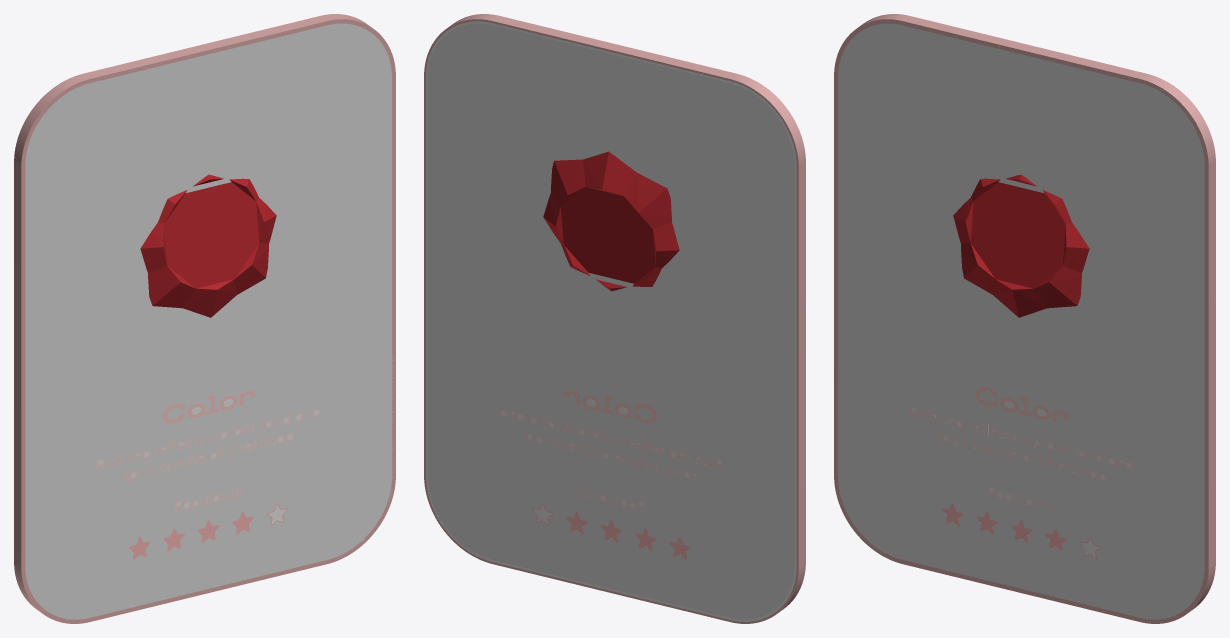
Rendered from color.gltf.
3 views of the same model, side by side, from view 1: azimuth 30°, elevation 25°; view 2: azimuth 150°, elevation 25°; view 3: azimuth 330°, elevation 25° (orthographic).
Visible parts, largest first — view 1: Asset 62new_cards.491, Jewel_02_Circle, Asset 62new_cards.476, Asset 62new_cards.475; view 2: Asset 62new_cards.491, Jewel_02_Circle, Asset 62new_cards.476, Asset 62new_cards.474; view 3: Asset 62new_cards.491, Jewel_02_Circle, Asset 62new_cards.476, Asset 62new_cards.475.
Boxes of the visible parts, x1,y1,x2,y2 form: Asset 62new_cards.491: (25,23,391,619); Jewel_02_Circle: (140,174,276,317); Asset 62new_cards.476: (14,14,395,623); Asset 62new_cards.475: (23,21,393,621); Asset 62new_cards.491: (428,23,794,619); Jewel_02_Circle: (543,151,679,291); Asset 62new_cards.476: (424,14,805,623); Asset 62new_cards.474: (426,21,796,621); Asset 62new_cards.491: (838,23,1204,619); Jewel_02_Circle: (953,174,1089,317); Asset 62new_cards.476: (834,14,1215,623); Asset 62new_cards.475: (836,21,1206,621).
Size of the model in its own units: 15.99 by 22.15 by 1.88.
